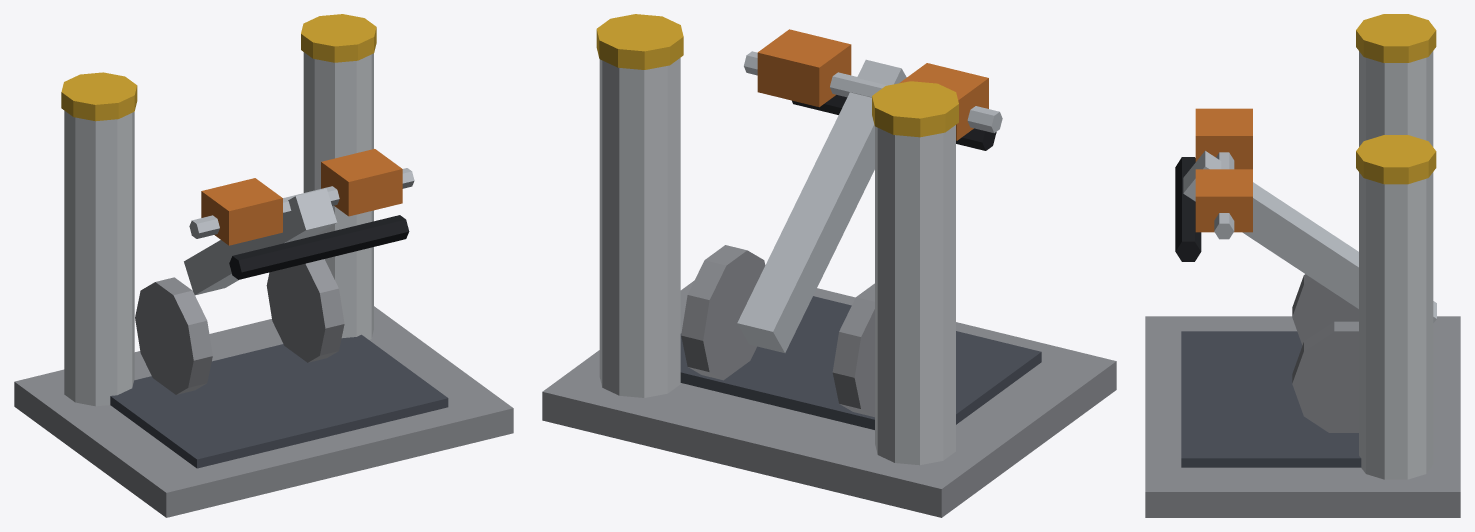
The model's file is cabin-ared-exercise.glb.
3 views of the same model, side by side, from view 1: azimuth 30°, elevation 25°; view 2: azimuth 150°, elevation 25°; view 3: azimuth 270°, elevation 25° (orthographic). The views are drawn at different scales.
Visible parts, largest first — view 1: CabinAredExercise_Titanium, CabinAredExercise_Aluminum, CabinAredExercise_Strap, CabinAredExercise_Foam, CabinAredExercise_FoilGold, CabinAredExercise_Steel, CabinAredExercise_HullBlack; view 2: CabinAredExercise_Aluminum, CabinAredExercise_Titanium, CabinAredExercise_Steel, CabinAredExercise_Strap, CabinAredExercise_FoilGold, CabinAredExercise_Foam, CabinAredExercise_HullBlack; view 3: CabinAredExercise_Titanium, CabinAredExercise_Aluminum, CabinAredExercise_Strap, CabinAredExercise_Steel, CabinAredExercise_FoilGold, CabinAredExercise_Foam, CabinAredExercise_HullBlack.
Part boxes in pixels (x1=…): CabinAredExercise_Titanium: x1=14, y1=259, x2=513, y2=517; CabinAredExercise_Aluminum: x1=64, y1=52, x2=373, y2=406; CabinAredExercise_Strap: x1=110, y1=334, x2=448, y2=468; CabinAredExercise_Foam: x1=201, y1=149, x2=402, y2=245; CabinAredExercise_FoilGold: x1=61, y1=14, x2=376, y2=121; CabinAredExercise_Steel: x1=184, y1=168, x2=414, y2=295; CabinAredExercise_HullBlack: x1=229, y1=215, x2=409, y2=279; CabinAredExercise_Aluminum: x1=599, y1=58, x2=955, y2=465; CabinAredExercise_Titanium: x1=542, y1=245, x2=1116, y2=517; CabinAredExercise_Steel: x1=737, y1=51, x2=1002, y2=352; CabinAredExercise_Strap: x1=680, y1=296, x2=1041, y2=429; CabinAredExercise_FoilGold: x1=596, y1=14, x2=958, y2=137; CabinAredExercise_Foam: x1=757, y1=29, x2=988, y2=140; CabinAredExercise_HullBlack: x1=792, y1=95, x2=996, y2=150; CabinAredExercise_Titanium: x1=1145, y1=274, x2=1460, y2=517; CabinAredExercise_Aluminum: x1=1359, y1=51, x2=1433, y2=479; CabinAredExercise_Strap: x1=1181, y1=331, x2=1361, y2=467; CabinAredExercise_Steel: x1=1183, y1=150, x2=1436, y2=322; CabinAredExercise_FoilGold: x1=1356, y1=14, x2=1436, y2=184; CabinAredExercise_Foam: x1=1195, y1=108, x2=1252, y2=232; CabinAredExercise_HullBlack: x1=1175, y1=157, x2=1201, y2=261.
Size of the model in its own units: 0.58 by 0.523 by 0.44.
